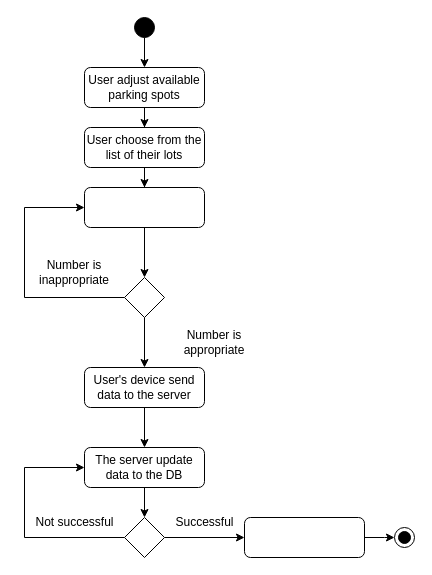
Image size: 432x575. Some labels were removed from this diagram. The shapes that lost their labels are listed below. From the top down, each one's centre as x and y in pixels, then its label:
the point at 144,207: User set the number of available spots
the point at 304,537: Notify the user
